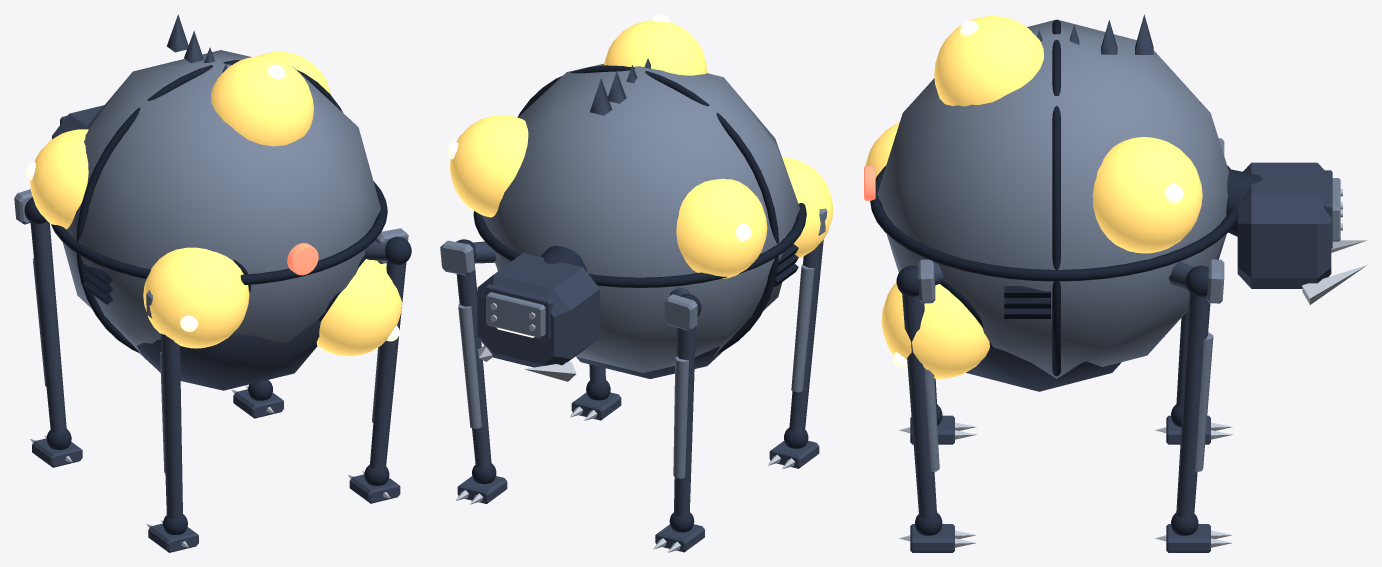
File: enemy_cluster.glb
The picture shows the model from 3 angles, left to right: view 1: azimuth 30°, elevation 25°; view 2: azimuth 150°, elevation 25°; view 3: azimuth 270°, elevation 25°; orthographic projection. The views are drawn at different scales.
Visible parts, largest first — view 1: cluster_belly, cluster_sac3, cluster_sac4, cluster_belly_under, cluster_sac2, cluster_sac1, cluster_leg2_shin, cluster_leg1_shin, cluster_seam, cluster_leg0_shin, cluster_seam_b, cluster_ridge (+9 smaller); view 2: cluster_belly, cluster_head, cluster_sac1, cluster_sac0, cluster_sac4, cluster_seam_b, cluster_seam, cluster_sac3, cluster_leg3_shin, cluster_leg2_shin, cluster_head_plate_face, cluster_leg1_shin (+15 smaller); view 3: cluster_belly, cluster_head, cluster_sac0, cluster_sac4, cluster_sac2, cluster_seam, cluster_leg3_shin, cluster_leg0_shin, cluster_belly_under, cluster_seam_b, cluster_vent_r, cluster_leg3_shin_plate (+11 smaller).
Part boxes in pixels (box(x1,y1,x2,y2)): cluster_belly: box(62, 50, 380, 355); cluster_sac3: box(143, 247, 249, 348); cluster_sac4: box(211, 56, 313, 146); cluster_belly_under: box(137, 319, 320, 390); cluster_sac2: box(316, 259, 402, 356); cluster_sac1: box(30, 129, 88, 229); cluster_leg2_shin: box(30, 222, 66, 433); cluster_leg1_shin: box(160, 333, 182, 519); cluster_seam: box(51, 181, 387, 285); cluster_leg0_shin: box(370, 261, 406, 469); cluster_seam_b: box(76, 60, 342, 352); cluster_ridge: box(167, 14, 227, 72); cluster_belly: box(481, 63, 799, 372); cluster_head: box(477, 253, 599, 367); cluster_sac1: box(676, 178, 767, 278); cluster_sac0: box(449, 115, 528, 217); cluster_sac4: box(604, 20, 707, 75); cluster_seam_b: box(517, 65, 778, 353); cluster_seam: box(473, 203, 806, 287); cluster_sac3: box(782, 157, 833, 257); cluster_leg3_shin: box(456, 264, 491, 468); cluster_leg2_shin: box(674, 326, 695, 517); cluster_head_plate_face: box(486, 292, 545, 337); cluster_leg1_shin: box(789, 240, 823, 432); cluster_belly: box(877, 19, 1229, 378); cluster_head: box(1237, 162, 1331, 288); cluster_sac0: box(1092, 137, 1202, 253); cluster_sac4: box(934, 16, 1043, 106); cluster_sac2: box(881, 282, 989, 378); cluster_seam: box(870, 165, 1238, 281); cluster_leg3_shin: box(1176, 292, 1210, 518); cluster_leg0_shin: box(902, 294, 936, 518); cluster_belly_under: box(966, 347, 1121, 391); cluster_seam_b: box(1052, 20, 1060, 376); cluster_vent_r: box(1004, 286, 1050, 318); cluster_leg3_shin_plate: box(1195, 332, 1213, 472).
Size of the model in its own units: 1.3 by 1.81 by 1.73.
